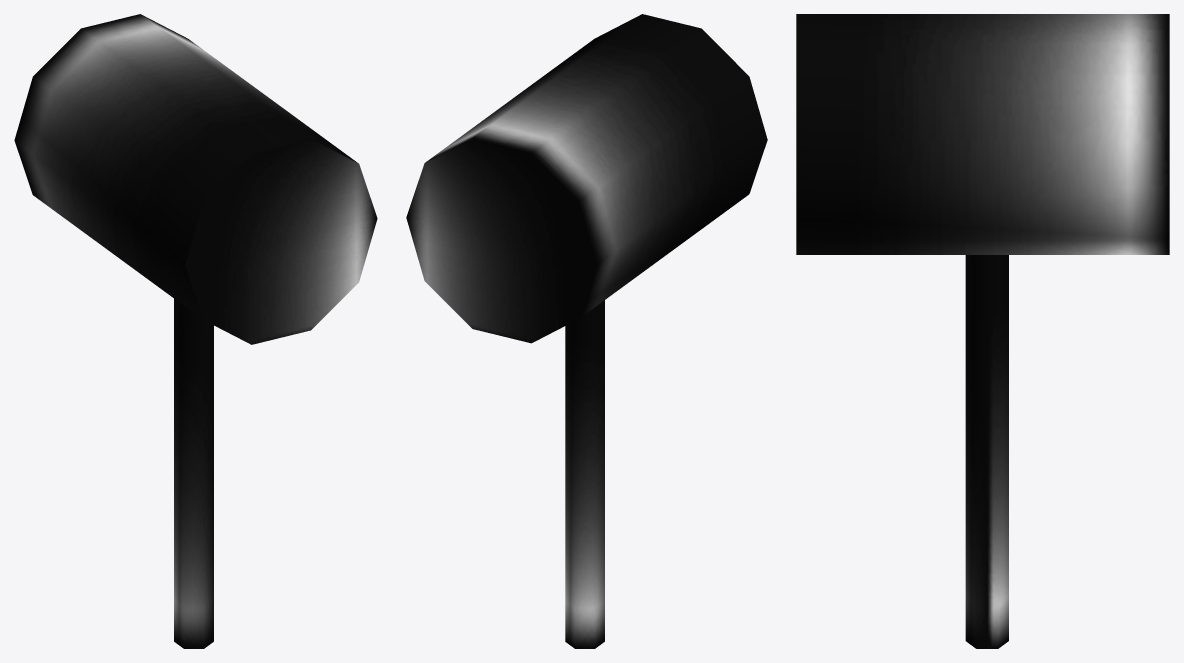
The model's file is 0486_xueliguai_hammer01.glb.
3 views of the same model, side by side, from view 1: azimuth 30°, elevation 25°; view 2: azimuth 150°, elevation 25°; view 3: azimuth 270°, elevation 25° (orthographic). The views are drawn at different scales.
Size of the model in its own units: 0.7916 by 2.2 by 1.22.
1 material, 1 textured.
